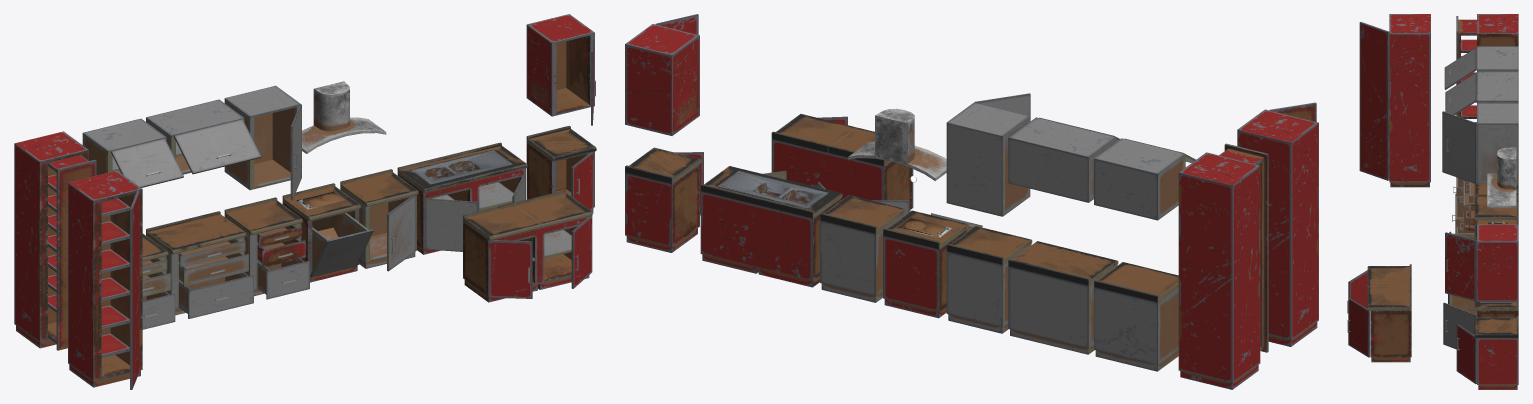
File: old_kitchen_set.glb
3 renders of one model, left to right at view 1: azimuth 30°, elevation 25°; view 2: azimuth 150°, elevation 25°; view 3: azimuth 270°, elevation 25°, orthographic. The views are drawn at different scales.
Parts seen in each view (by area): view 1: Object_2; view 2: Object_2; view 3: Object_2.
Boxes of the visible parts, x1,y1,x2,y2 form: Object_2: (14,14,596,389); Object_2: (625,14,1318,389); Object_2: (1347,14,1518,389).
Size of the model in its own units: 13.64 by 4.4 by 4.44.
1 material, 1 textured.
